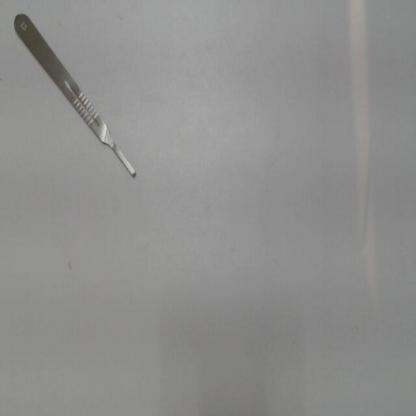No.4 BP Handle: (12, 6, 142, 182)
